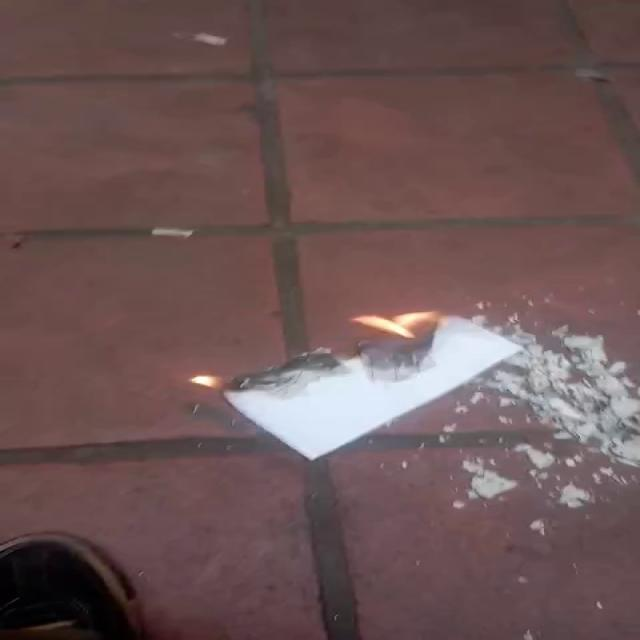Fire_Dangerous: (332, 312, 450, 340), (188, 366, 237, 389)
